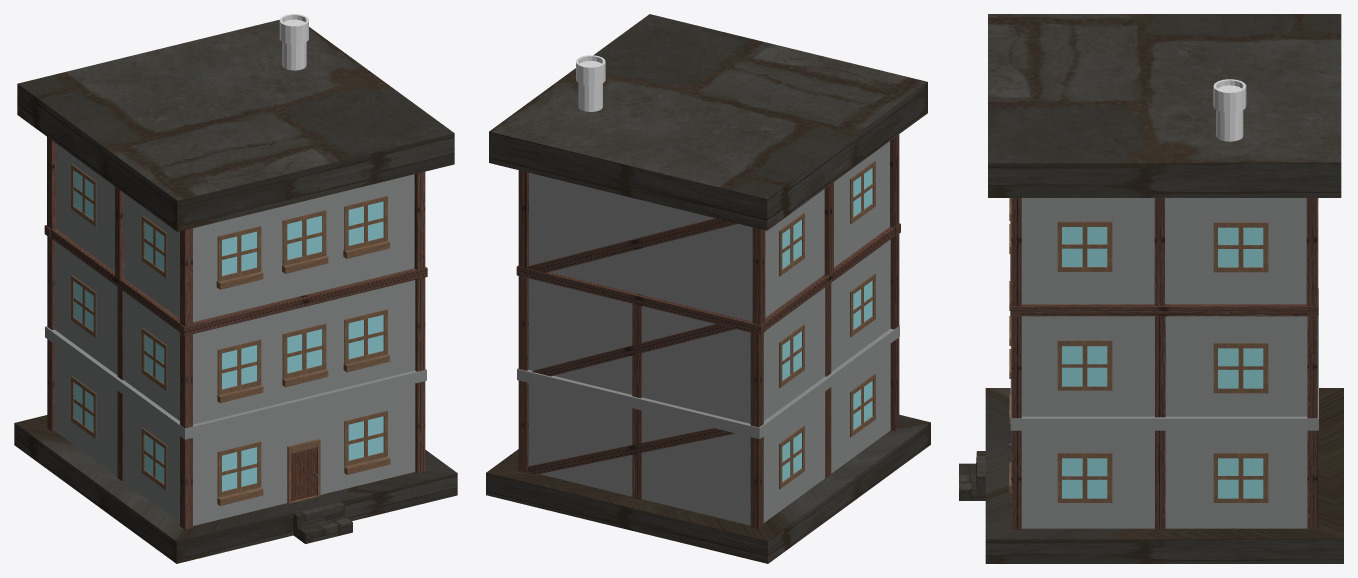
The model's file is House4Fix.fbx.
The picture shows the model from 3 angles, left to right: view 1: azimuth 30°, elevation 25°; view 2: azimuth 150°, elevation 25°; view 3: azimuth 270°, elevation 25°; orthographic projection. The views are drawn at different scales.
Visible parts, largest first — view 1: Cube, Cube.018, Cube.001, Cube.003, Cube.005, Cube.014, Cylinder.001, Cube.032, Cube.020, Cube.037, Cube.010, Plane.010 (+36 smaller); view 2: Cube, Cube.018, Cube.001, Cube.036, Cube.019, Cube.024, Cube.023, Cube.014, Cube.022, Cylinder.001, Cube.035, Cube.013 (+21 smaller); view 3: Cube, Cube.018, Cube.001, Cube.015, Cube.021, Cylinder.001, Plane.017, Plane.019, Plane.025, Plane.027, Plane.032, Plane.034 (+14 smaller).
Boxes of the visible parts, bbox=[...] form: Cube: bbox=[14, 241, 457, 563]; Cube.018: bbox=[17, 19, 454, 231]; Cube.001: bbox=[56, 143, 414, 322]; Cube.003: bbox=[179, 267, 427, 336]; Cube.005: bbox=[293, 502, 352, 543]; Cube.014: bbox=[50, 228, 179, 331]; Cylinder.001: bbox=[279, 14, 308, 70]; Cube.032: bbox=[180, 228, 192, 326]; Cube.020: bbox=[117, 287, 123, 481]; Cube.037: bbox=[291, 447, 316, 501]; Cube.010: bbox=[180, 333, 192, 428]; Plane.010: bbox=[282, 323, 326, 379]; Cube: bbox=[486, 239, 930, 563]; Cube.018: bbox=[489, 14, 927, 230]; Cube.001: bbox=[529, 141, 889, 321]; Cube.036: bbox=[516, 265, 765, 334]; Cube.019: bbox=[527, 218, 737, 272]; Cube.024: bbox=[527, 428, 735, 474]; Cube.023: bbox=[532, 324, 735, 376]; Cube.014: bbox=[765, 227, 894, 330]; Cube.022: bbox=[632, 303, 641, 499]; Cylinder.001: bbox=[576, 55, 605, 111]; Cube.035: bbox=[752, 227, 765, 325]; Cube.013: bbox=[750, 332, 763, 427]; Cube: bbox=[985, 288, 1343, 563]; Cube.018: bbox=[988, 14, 1341, 197]; Cube.001: bbox=[1021, 198, 1306, 304]; Cube.015: bbox=[1020, 304, 1307, 316]; Cube.021: bbox=[1155, 316, 1165, 529]; Cylinder.001: bbox=[1213, 79, 1246, 141]; Plane.017: bbox=[1218, 458, 1263, 498]; Plane.019: bbox=[1062, 458, 1107, 498]; Plane.025: bbox=[1062, 346, 1107, 386]; Plane.027: bbox=[1218, 348, 1263, 388]; Plane.032: bbox=[1062, 227, 1107, 266]; Plane.034: bbox=[1218, 227, 1263, 267].
Size of the model in its own units: 964 by 1334 by 1035.
8 materials, 4 textured.
